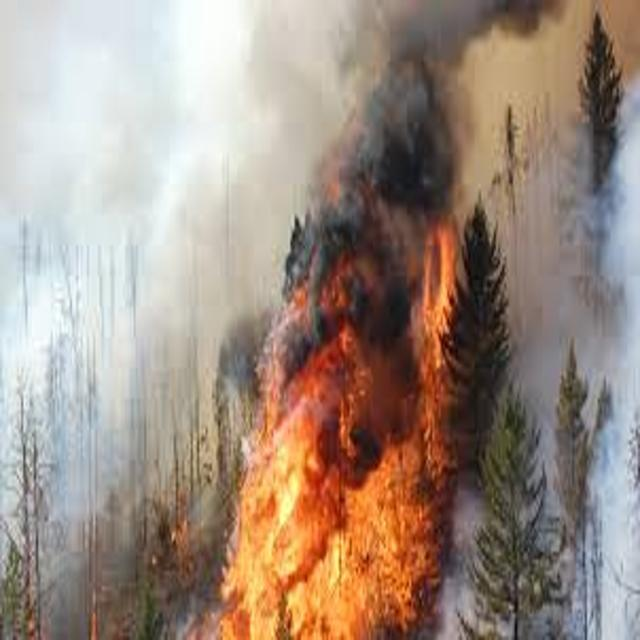Fire: (208, 210, 460, 638)
Smoke: (242, 0, 544, 206), (0, 0, 239, 226), (0, 227, 209, 472), (498, 206, 626, 403), (584, 442, 640, 640)
